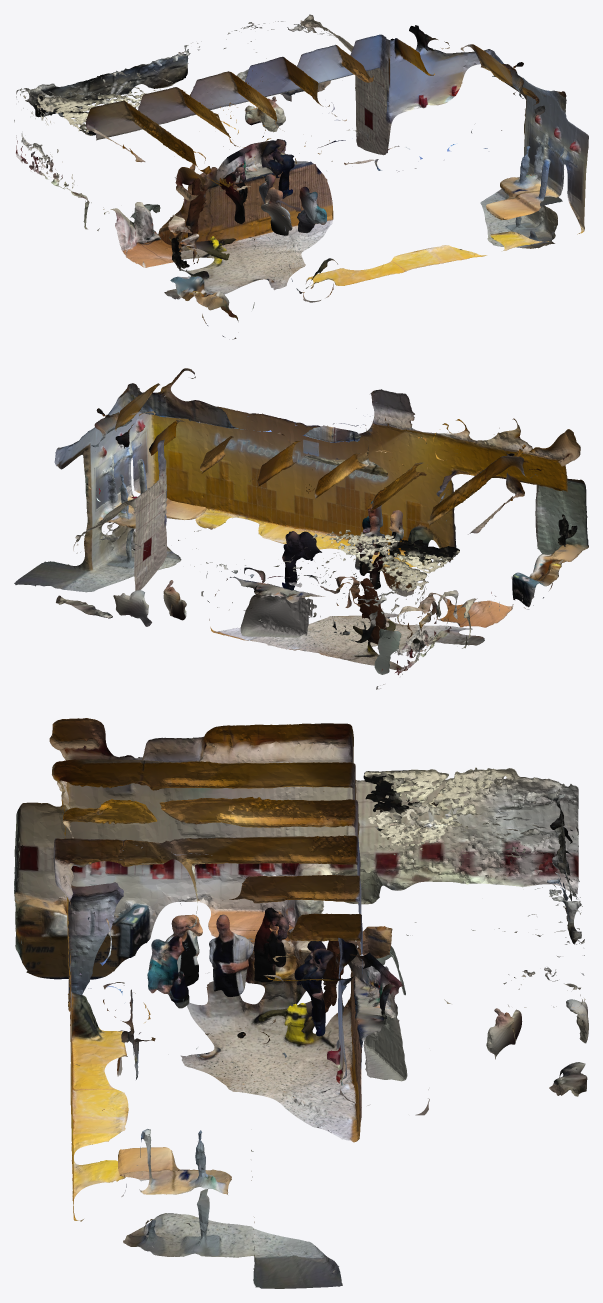
The model's file is store_scan.glb.
3 views of the same model, one above another, from view 1: azimuth 30°, elevation 25°; view 2: azimuth 150°, elevation 25°; view 3: azimuth 270°, elevation 25° (orthographic). The views are drawn at different scales.
Bounding box in the file's own units: 8.12 × 3.19 × 6.28.
Materials: 2 (2 with a texture image).
